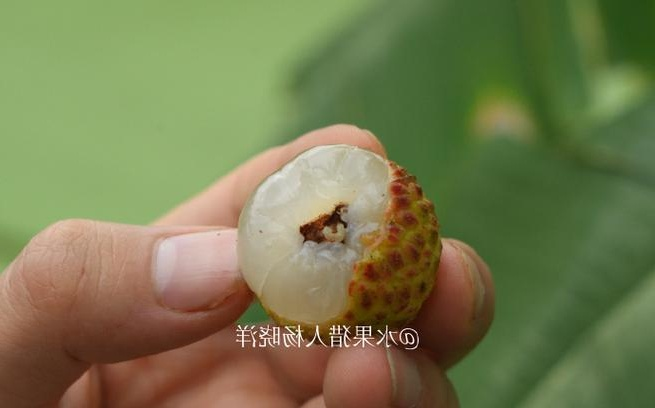Borer: (313, 207, 347, 245)
